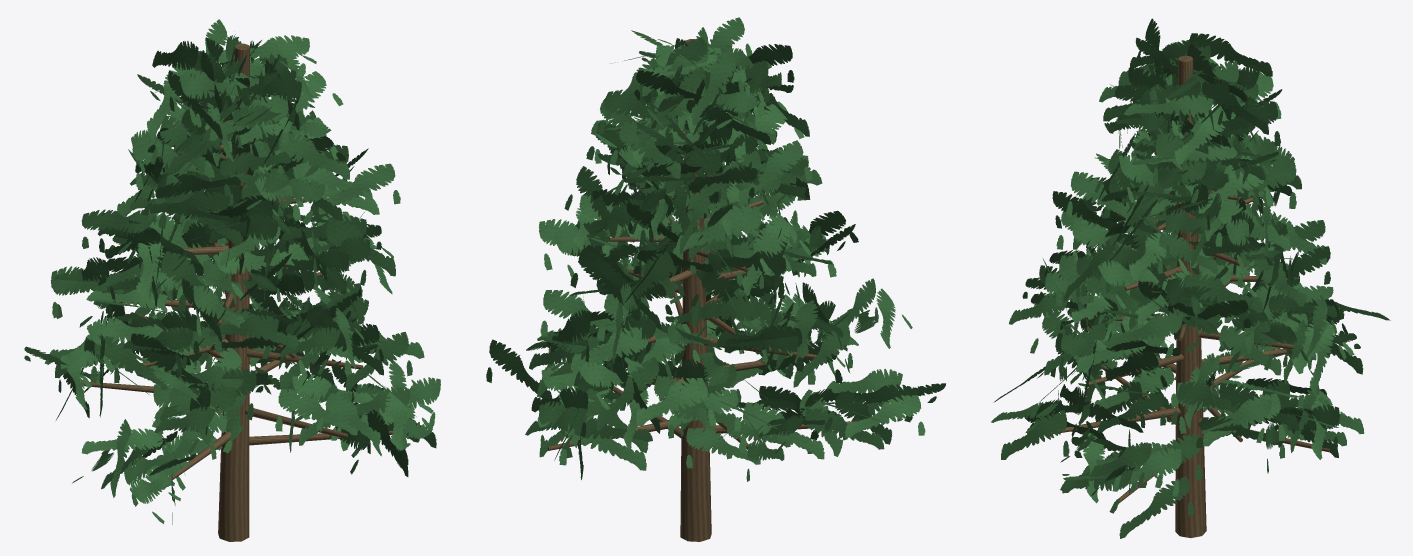
3 renders of one model, left to right at view 1: azimuth 30°, elevation 25°; view 2: azimuth 150°, elevation 25°; view 3: azimuth 270°, elevation 25°, orthographic. The views are drawn at different scales.
Parts seen in each view (by area): view 1: pine-needle, pine-bark; view 2: pine-needle, pine-bark; view 3: pine-needle, pine-bark.
Boxes of the visible parts, x1,y1,x2,y2 form: pine-needle: (24,19,440,524); pine-bark: (81,43,392,541); pine-needle: (486,17,945,481); pine-bark: (545,39,857,541); pine-needle: (991,18,1390,538); pine-bark: (1051,55,1329,537).
Size of the model in its own units: 8.13 by 10.27 by 7.86.
2 materials, 2 textured.
